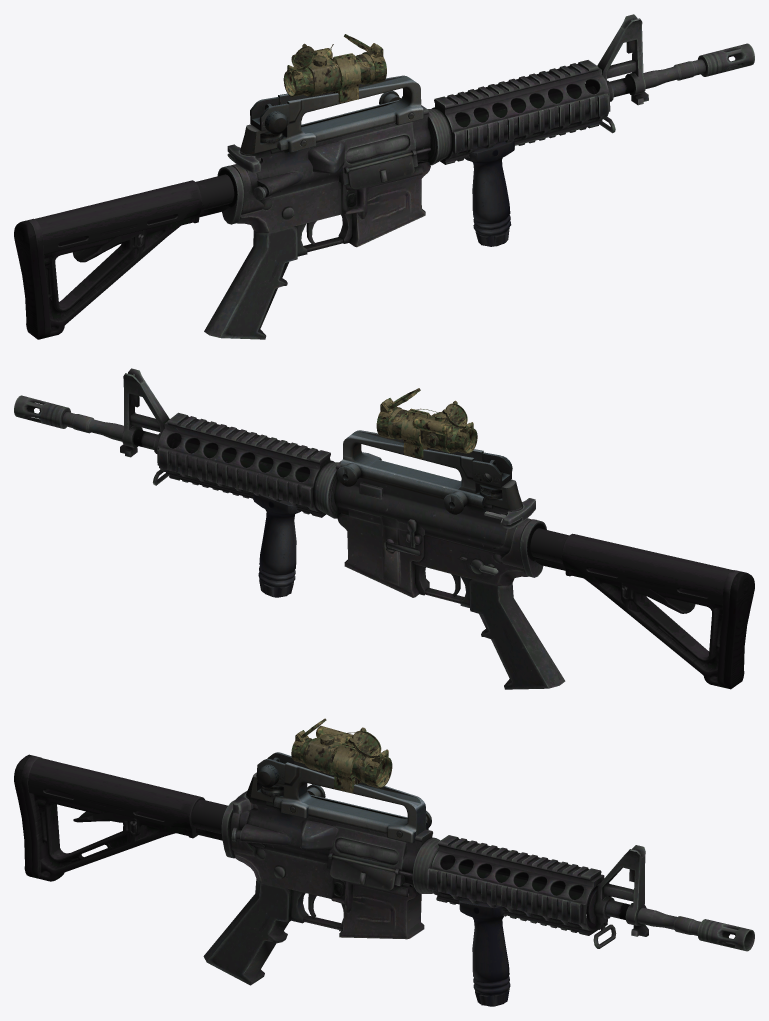
3 views of the same model, one above another, from view 1: azimuth 30°, elevation 25°; view 2: azimuth 150°, elevation 25°; view 3: azimuth 330°, elevation 25° (orthographic).
Parts seen in each view (by area): view 1: Gun_Root; view 2: Gun_Root; view 3: Gun_Root.
Part boxes in pixels (left/top/right/bottom): Gun_Root: left=14, top=14, right=754, bottom=339; Gun_Root: left=14, top=368, right=754, bottom=689; Gun_Root: left=14, top=718, right=754, bottom=1006.
Bounding box in the file's own units: 0.7819 × 0.2783 × 0.0651.
5 materials, 5 textured.
